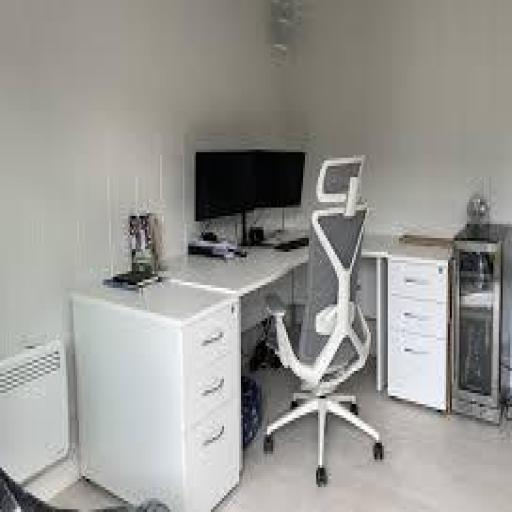chair: (267, 151, 390, 497)
